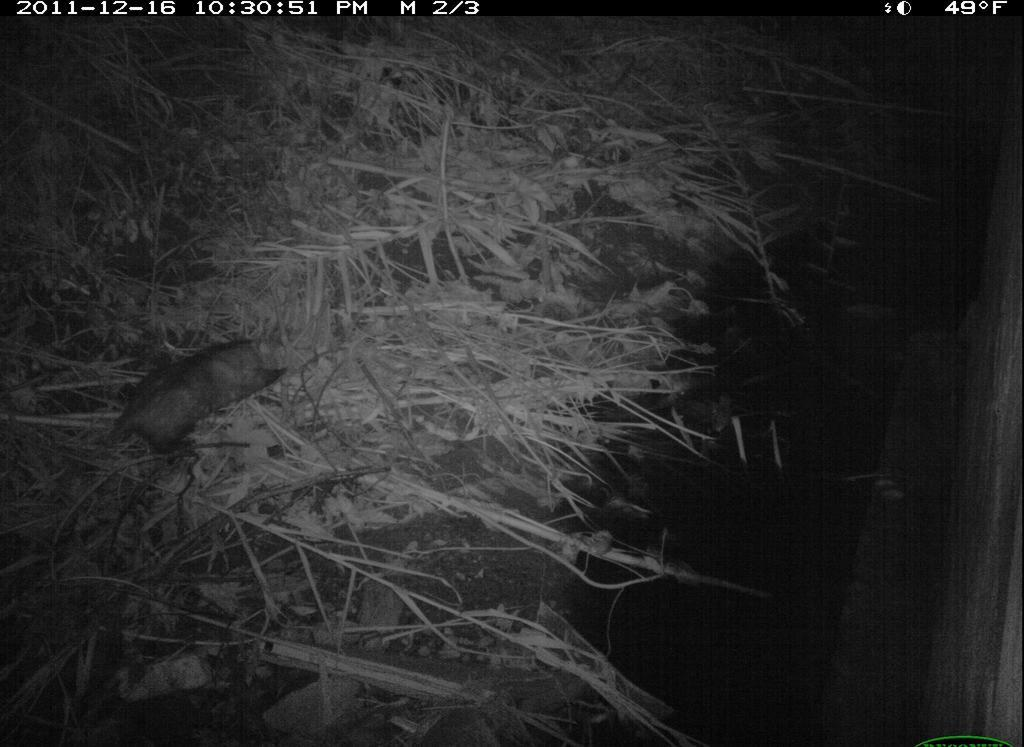opossum: (77, 328, 295, 482)
